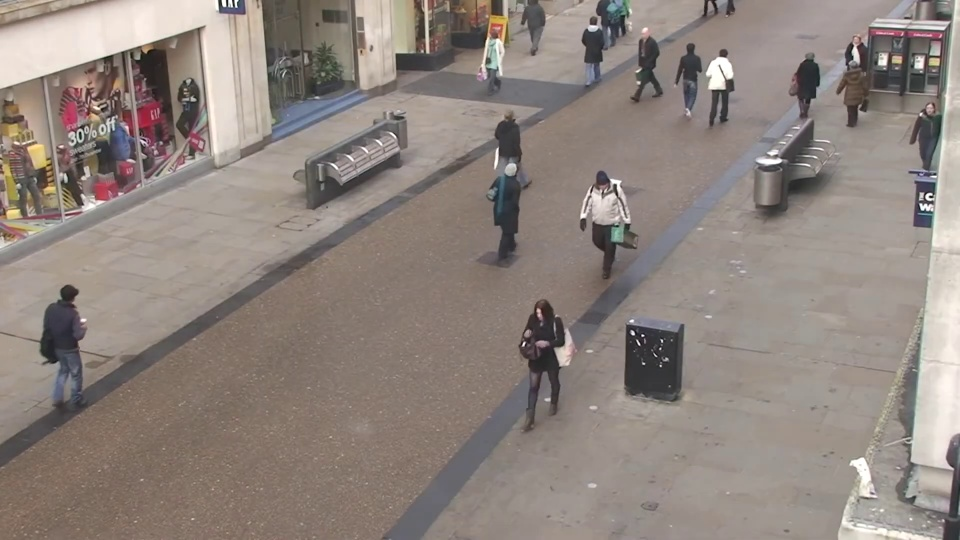pedestrian: (56, 272, 117, 406), (513, 299, 559, 443), (902, 97, 947, 193), (579, 170, 614, 282), (500, 156, 536, 264), (503, 102, 534, 195), (831, 56, 865, 139), (836, 33, 870, 110), (791, 46, 822, 125), (709, 41, 736, 117), (679, 37, 705, 111), (476, 27, 501, 97), (626, 26, 650, 97), (585, 11, 608, 78)
